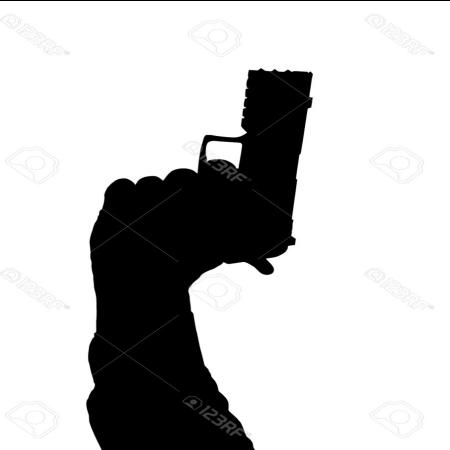Pistol: (104, 70, 318, 274)
